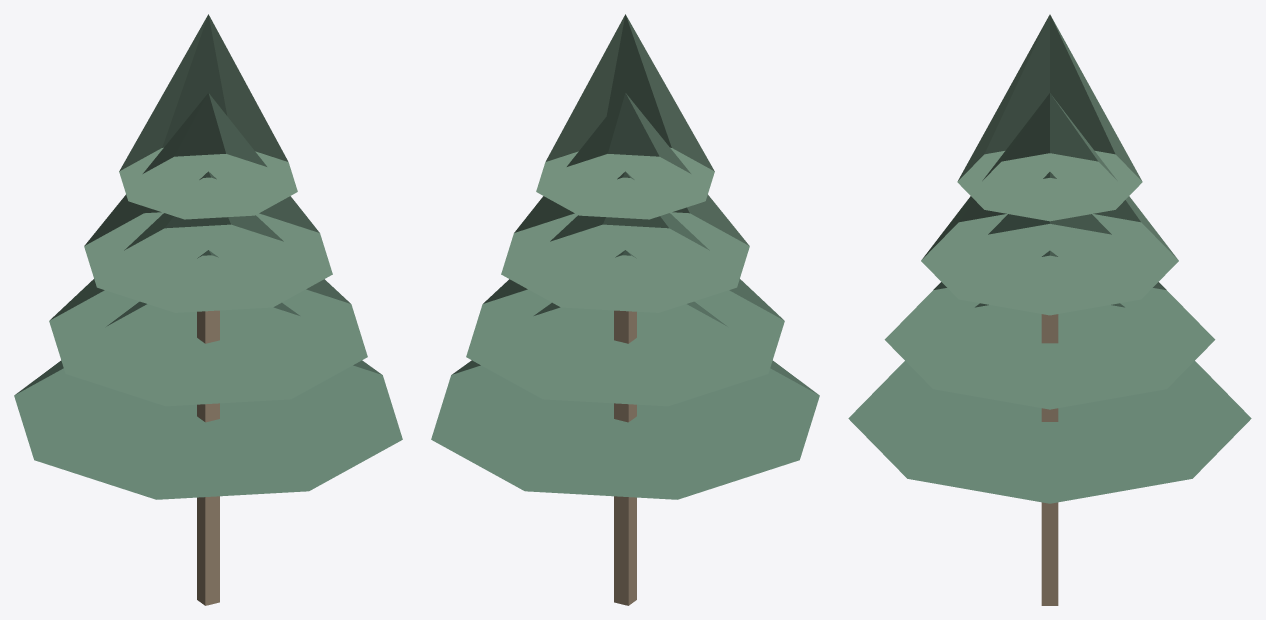
3 views of the same model, side by side, from view 1: azimuth 30°, elevation 25°; view 2: azimuth 150°, elevation 25°; view 3: azimuth 270°, elevation 25° (orthographic).
Bounding box in the file's own units: 12.18 × 19.6 × 12.18.
